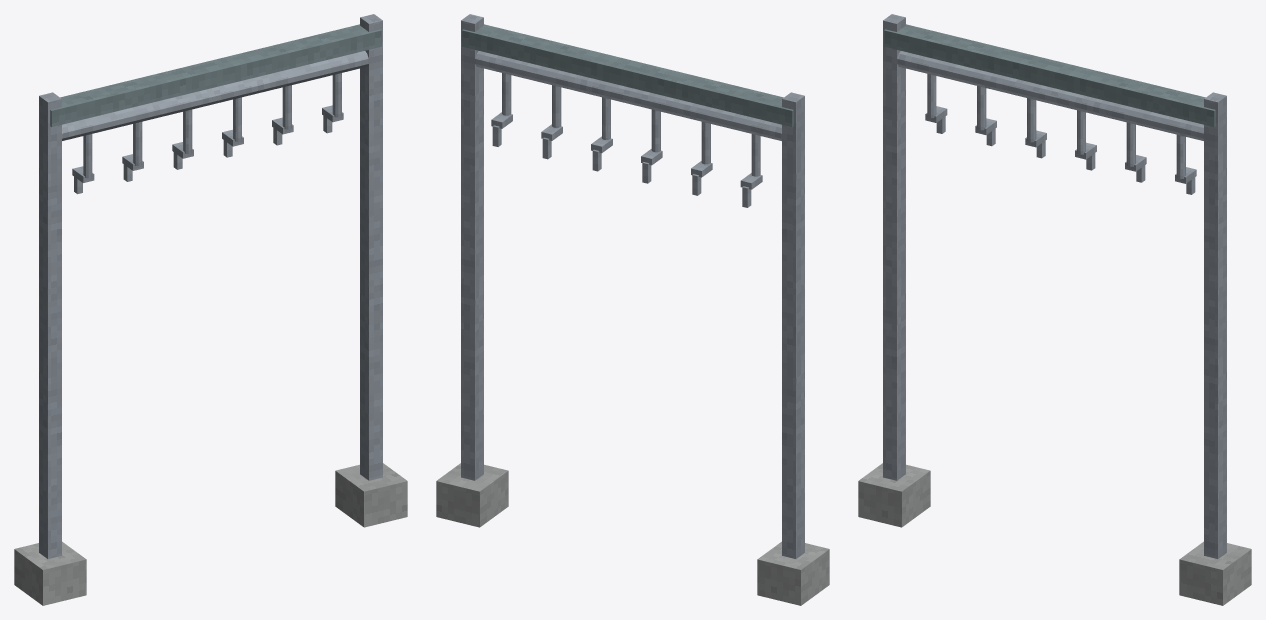
The model's file is level_blockout_refined_cannery_suspended_hooks.glb.
The picture shows the model from 3 angles, left to right: view 1: azimuth 30°, elevation 25°; view 2: azimuth 150°, elevation 25°; view 3: azimuth 330°, elevation 25°; orthographic projection.
Visible parts, largest first — view 1: level_blockout_refined_cannery_suspended_hooks; view 2: level_blockout_refined_cannery_suspended_hooks; view 3: level_blockout_refined_cannery_suspended_hooks.
Boxes of the visible parts, x1=… form: level_blockout_refined_cannery_suspended_hooks: x1=14, y1=14, x2=407, y2=605; level_blockout_refined_cannery_suspended_hooks: x1=436, y1=14, x2=829, y2=605; level_blockout_refined_cannery_suspended_hooks: x1=858, y1=14, x2=1251, y2=605.
Bounding box in the file's own units: 2.34 × 3.02 × 0.32.
3 materials, 3 textured.
